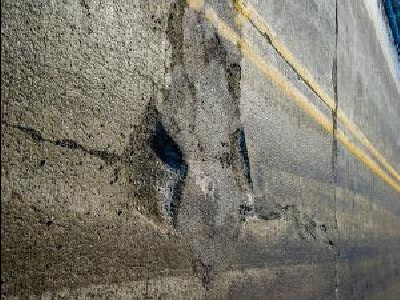pothole: (118, 101, 189, 237), (163, 0, 191, 68), (229, 123, 255, 194), (225, 60, 244, 106)
